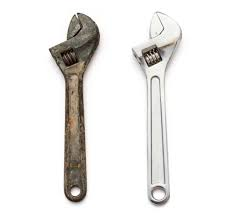wrench: (30, 5, 119, 204)
